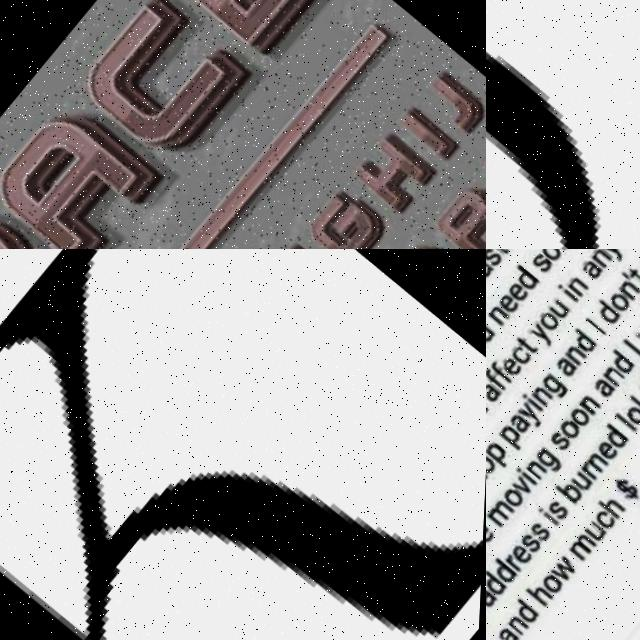A: (555, 349, 582, 375), (593, 370, 620, 396), (509, 407, 535, 433), (579, 253, 605, 278), (486, 377, 506, 402), (500, 621, 524, 640), (486, 581, 503, 605), (486, 251, 497, 277)
B: (556, 471, 589, 502)
C: (595, 502, 622, 528), (510, 338, 536, 363)
D: (491, 551, 524, 583), (606, 341, 639, 372), (601, 416, 634, 447), (513, 592, 546, 623), (509, 259, 541, 288), (591, 294, 623, 323), (569, 322, 599, 350), (486, 564, 512, 593), (486, 313, 497, 340)
E: (499, 349, 527, 376), (496, 287, 523, 313), (512, 538, 539, 564), (597, 433, 624, 459), (506, 275, 532, 301), (486, 516, 500, 542)
F: (489, 357, 517, 381), (486, 364, 511, 388)
G: (540, 367, 572, 396), (536, 441, 568, 470)
H: (527, 573, 560, 604), (598, 486, 630, 515)
I: (522, 387, 549, 410), (516, 461, 543, 484), (557, 278, 581, 299), (585, 311, 608, 331), (540, 503, 563, 522), (623, 332, 640, 352)
K: (0, 249, 486, 640)
L: (617, 407, 639, 426), (630, 390, 640, 408)
M: (570, 527, 601, 558), (488, 494, 518, 525)
N: (564, 338, 591, 364), (603, 359, 630, 384), (486, 299, 512, 324), (509, 609, 535, 634), (588, 445, 613, 470), (579, 388, 604, 412), (567, 270, 591, 293), (527, 455, 551, 478), (532, 381, 556, 403), (618, 272, 640, 296), (589, 249, 616, 265)
O: (537, 304, 564, 330), (607, 284, 634, 310), (502, 481, 529, 507), (569, 400, 596, 426), (543, 568, 570, 594), (558, 412, 585, 437), (486, 448, 501, 474), (625, 397, 640, 423), (537, 249, 564, 259)
P: (499, 418, 532, 449), (486, 435, 516, 464)
Q: (486, 0, 640, 249)
R: (582, 457, 604, 476), (508, 550, 528, 568)
S: (521, 526, 548, 552), (548, 494, 575, 520), (549, 425, 574, 449), (531, 517, 556, 541), (529, 249, 554, 271), (486, 249, 505, 264)
T: (516, 330, 541, 352), (625, 260, 640, 283), (486, 458, 491, 480)
U: (547, 293, 573, 318), (573, 465, 598, 489), (587, 515, 612, 539)
V: (513, 469, 538, 494)
W: (553, 551, 582, 580)
Y: (527, 316, 559, 345), (517, 395, 549, 424), (597, 249, 630, 259), (486, 597, 495, 627)
